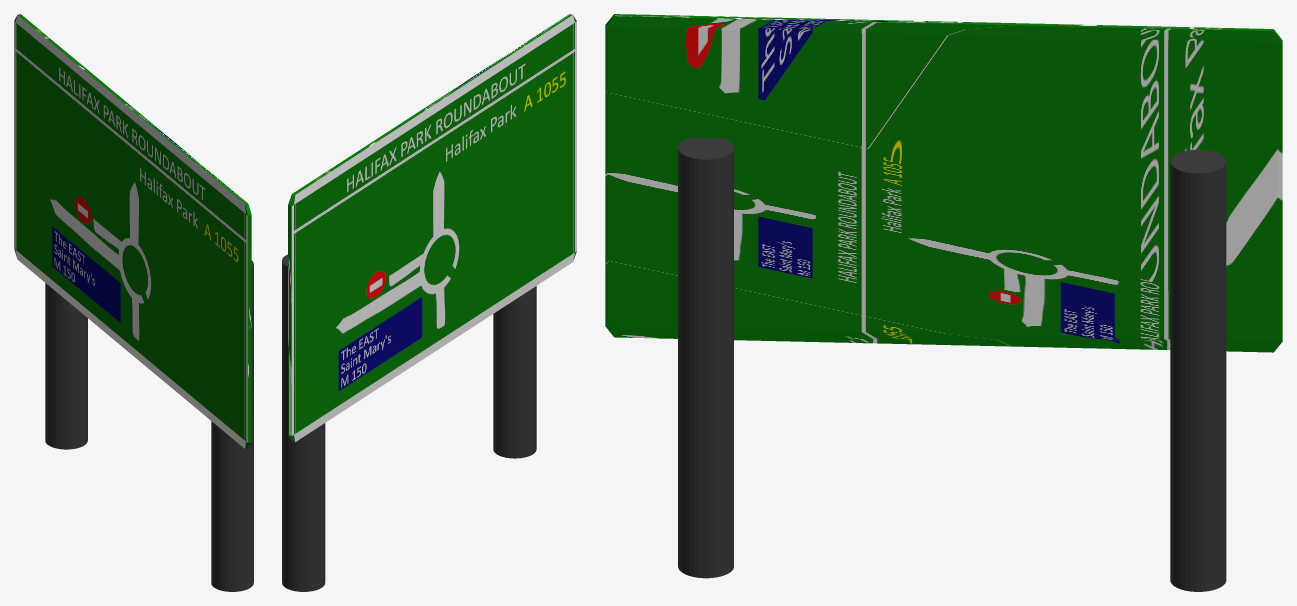
Rendered from RoundaboutSignHalifaxPark3.fbx.
The picture shows the model from 3 angles, left to right: view 1: azimuth 30°, elevation 25°; view 2: azimuth 150°, elevation 25°; view 3: azimuth 270°, elevation 25°; orthographic projection. The views are drawn at different scales.
Visible parts, largest first — view 1: Cube.030, Cylinder.001, Cylinder.002; view 2: Cube.030, Cylinder.002, Cylinder.001; view 3: Cube.030, Cylinder.002, Cylinder.001.
Part boxes in pixels (x1,y1,x2,y2): Cube.030: (14, 14, 251, 448); Cylinder.001: (211, 260, 253, 591); Cylinder.002: (45, 283, 87, 449); Cube.030: (288, 14, 576, 442); Cylinder.002: (282, 254, 325, 591); Cylinder.001: (493, 286, 536, 458); Cube.030: (605, 14, 1282, 352); Cylinder.002: (1170, 149, 1226, 591); Cylinder.001: (678, 137, 733, 578).
Bounding box in the file's own units: 108 × 670 × 765.
